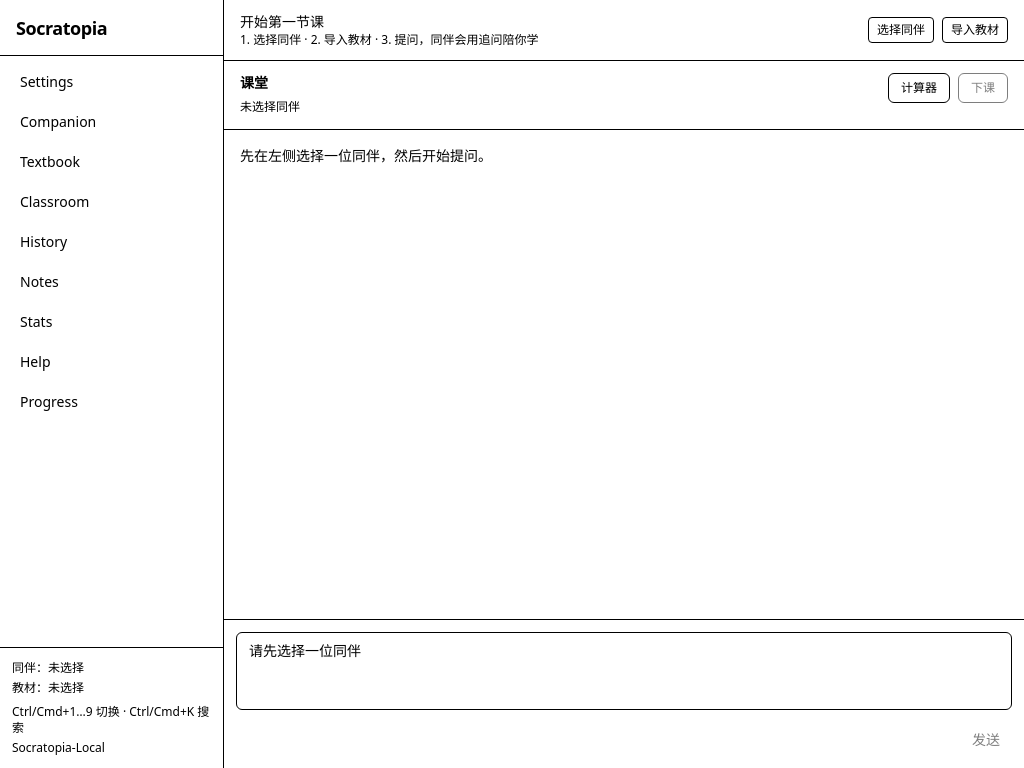
classroom loop › opens a lesson whose companion was deleted as a read-only view
Expected: the heading "Socratopia" is shown, [16, 14, 107, 42]
Click the button "History" at (112, 242), box [8, 224, 215, 260]
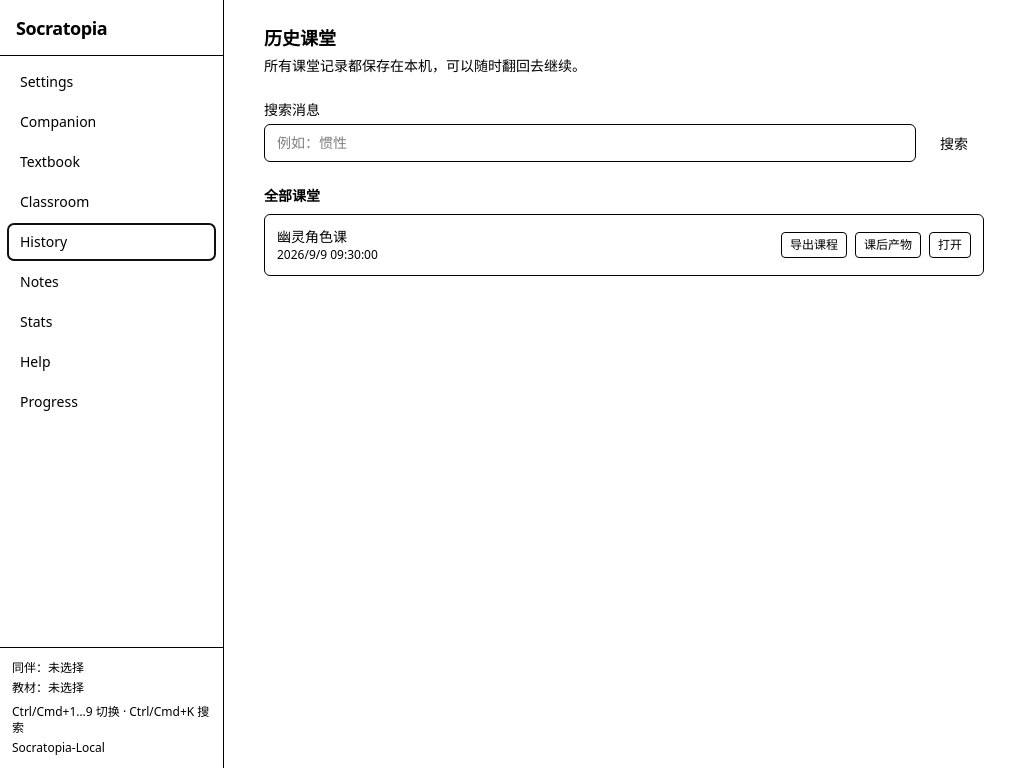
Now the text "幽灵角色课" is shown, box [277, 227, 347, 246]
Click the button "打开" at (950, 245), box [929, 232, 971, 258]
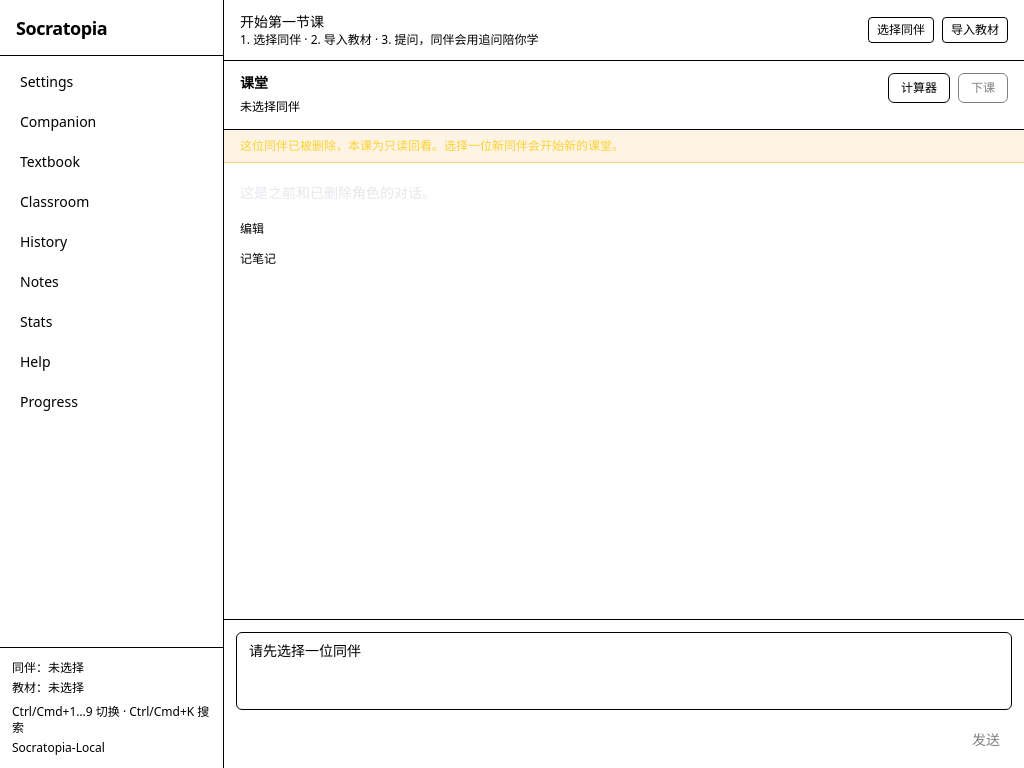
Now the text "这是之前和已删除角色的对话。" is shown, box [240, 183, 436, 202]
Now the text "未选择同伴" is shown, box [240, 98, 300, 115]
Now the button "发送" is disabled, box [960, 724, 1012, 756]
